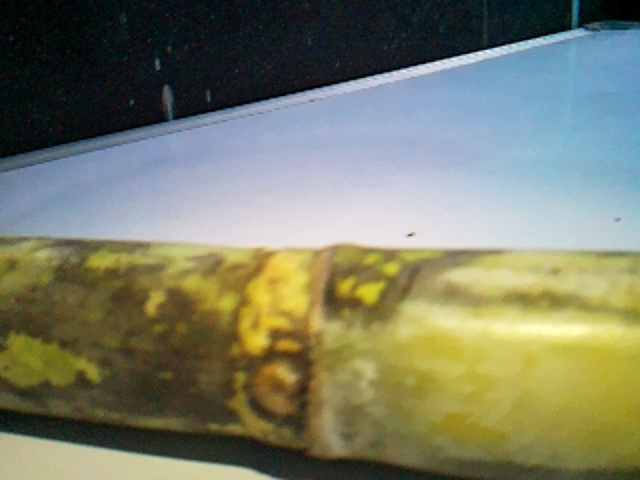Good Sugarcane: (0, 242, 635, 480)
Node: (239, 235, 382, 464)
